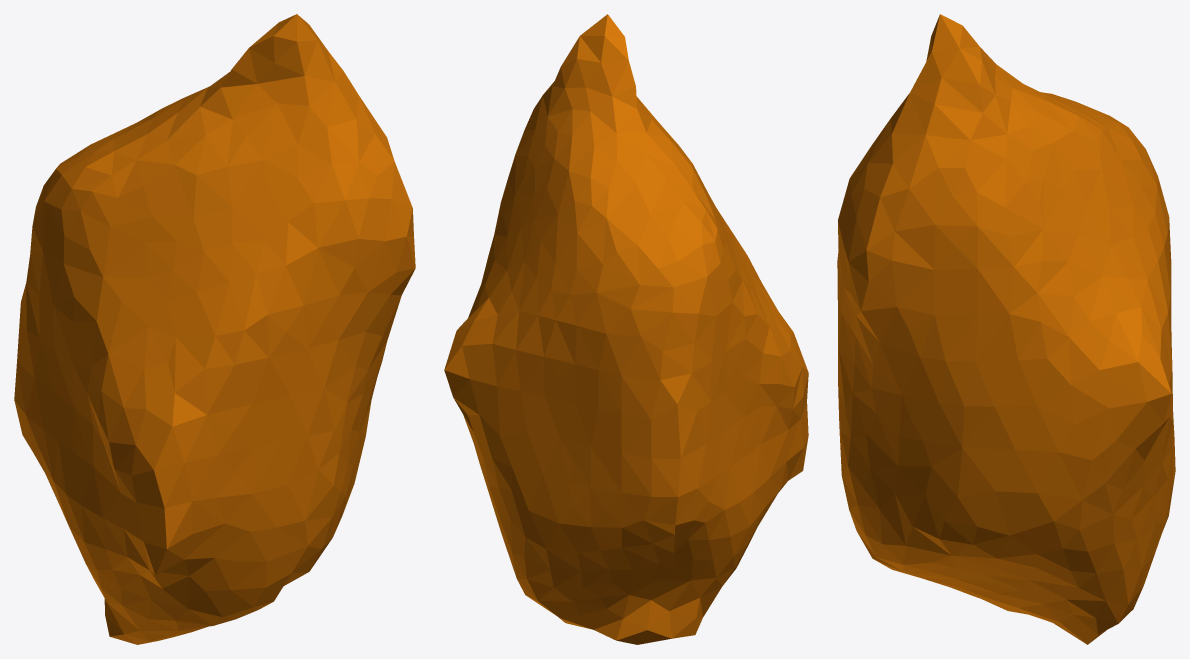
The model's file is rock-1.fbx.
3 views of the same model, side by side, from view 1: azimuth 30°, elevation 25°; view 2: azimuth 150°, elevation 25°; view 3: azimuth 270°, elevation 25° (orthographic). The views are drawn at different scales.
Parts seen in each view (by area): view 1: Rock1; view 2: Rock1; view 3: Rock1.
Boxes of the visible parts, box(x1,y1,x2,y2) form: Rock1: box(14, 14, 415, 644); Rock1: box(444, 14, 808, 644); Rock1: box(837, 14, 1175, 644).
Bounding box in the file's own units: 211 × 441 × 206.
